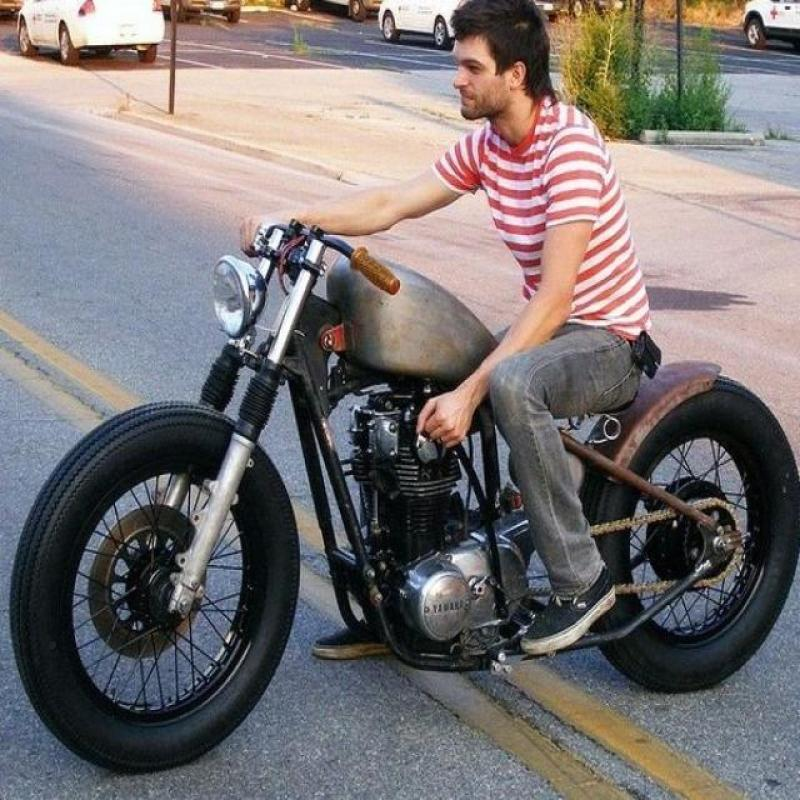nohelmet: (412, 9, 582, 145)
